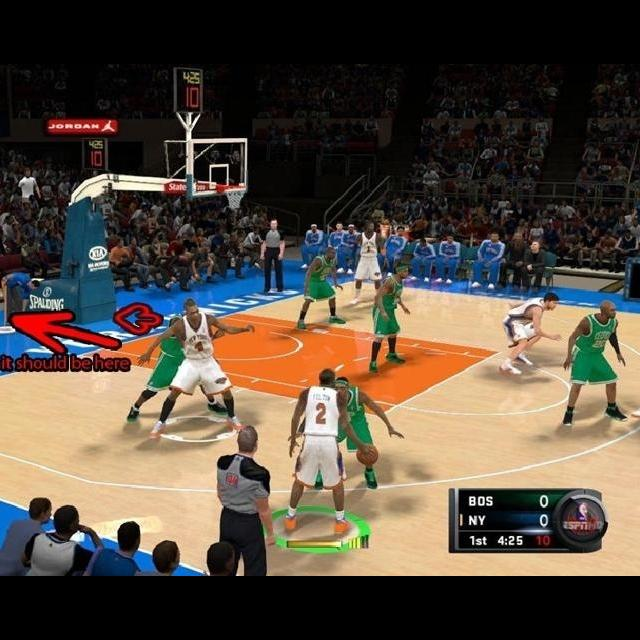basketball: (354, 444, 378, 465)
hoop: (224, 185, 247, 212)
